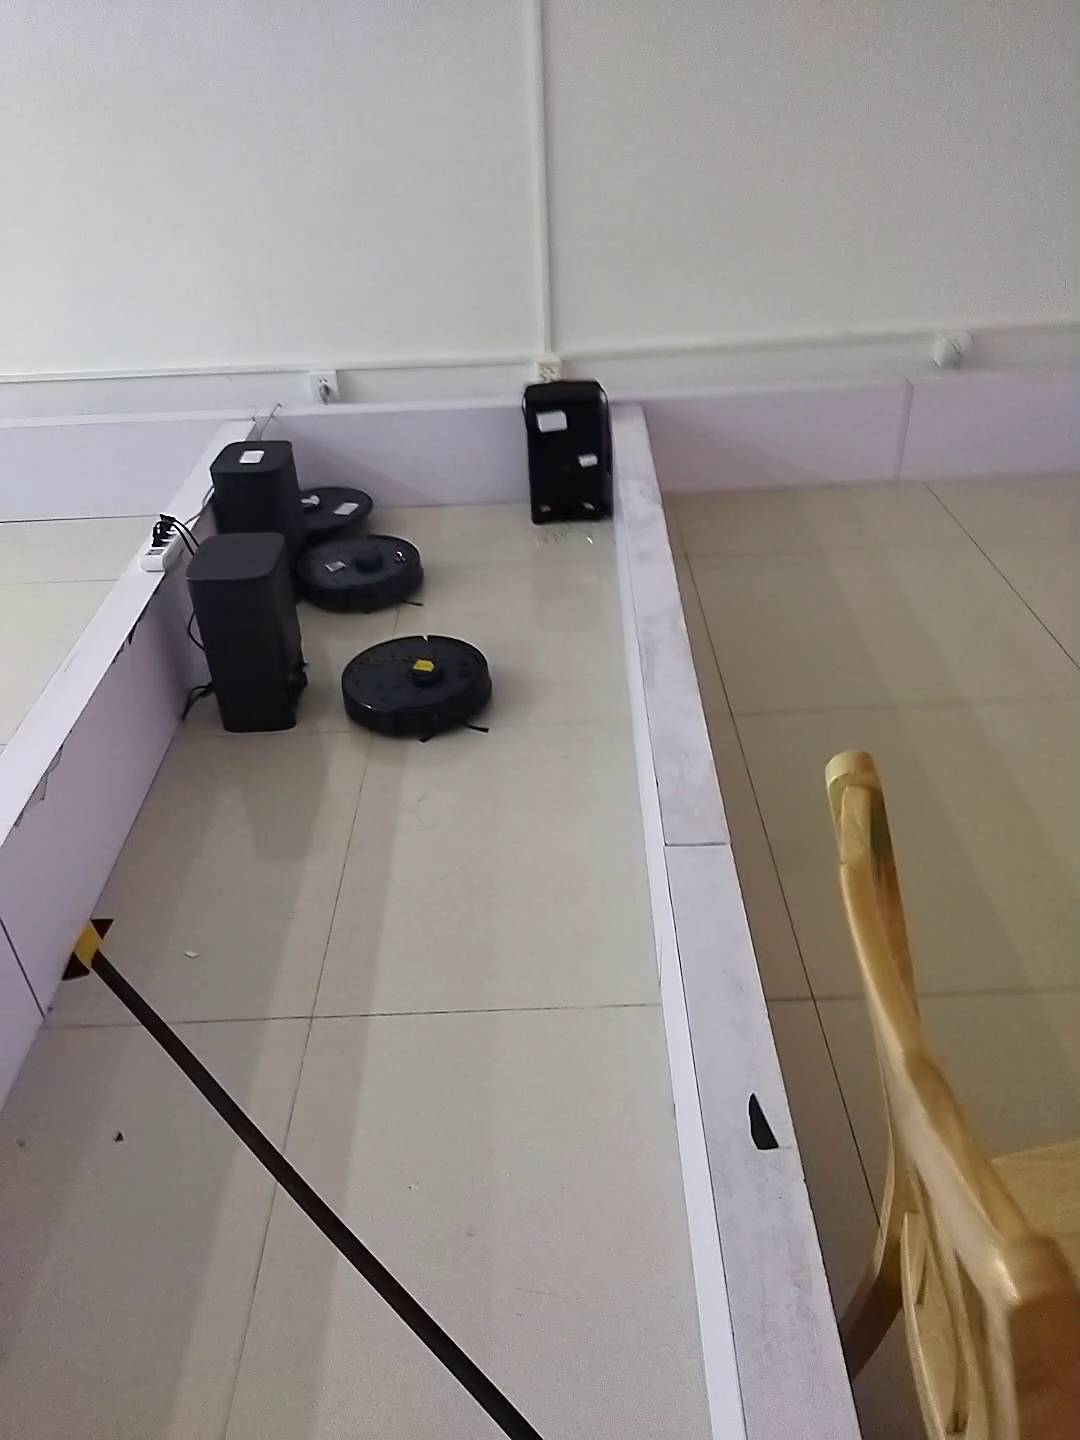dust collecting barrel: (188, 532, 305, 735), (523, 379, 616, 525), (210, 441, 301, 576)
